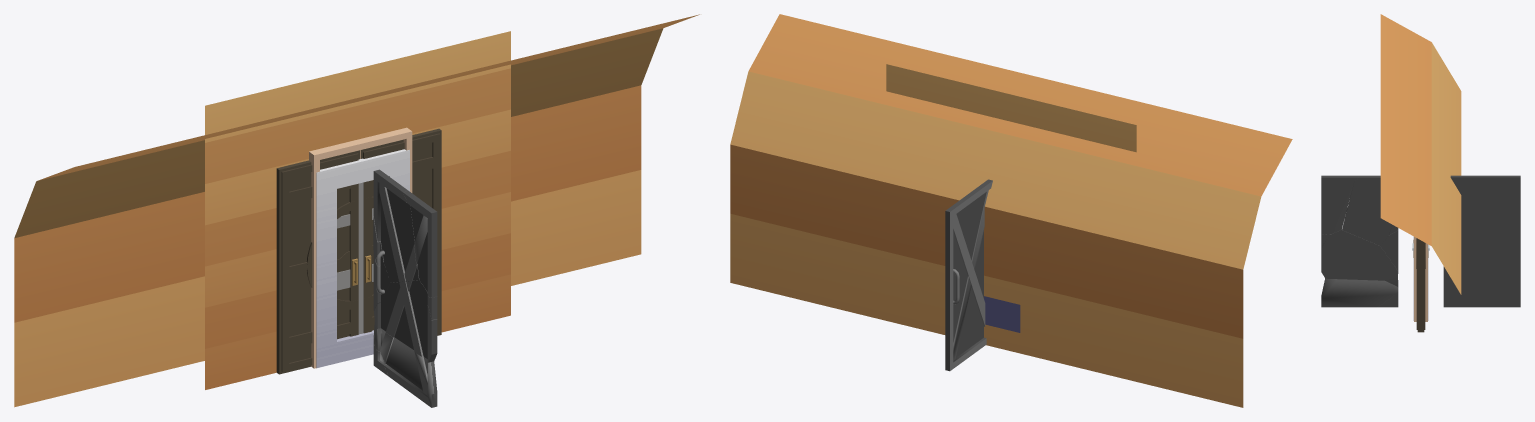
File: puertas.glb
The picture shows the model from 3 angles, left to right: view 1: azimuth 30°, elevation 25°; view 2: azimuth 150°, elevation 25°; view 3: azimuth 270°, elevation 25°; orthographic projection. The views are drawn at different scales.
Parts seen in each view (by area): view 1: door-wide-open, door-wide-closed, Door_DoubleLeft, door-white-glass, Door_DoubleRight, Door_placeholder.007_Scene.008, Door_placeholder.006_Scene.007, doorway(Clone), Door_placeholder.008_Scene.009, Door_placeholder.004_Scene.005, Door_1, Door_placeholder.005_Scene.006; view 2: door-wide-open, door-wide-closed, Door_placeholder_Scene.002; view 3: door-wide-open, Door_placeholder_Scene.002, Door_placeholder.006_Scene.007, Door_placeholder.007_Scene.008, Door_placeholder.008_Scene.009, Door_placeholder.004_Scene.005, Door_DoubleRight, doorway(Clone), Door_placeholder.005_Scene.006.
Boxes of the visible parts, x1,y1,x2,y2 form: door-wide-open: (14,14,699,407); door-wide-closed: (205,31,510,389); Door_DoubleLeft: (276,150,359,374); door-white-glass: (316,149,409,368); Door_DoubleRight: (360,128,441,335); Door_placeholder.007_Scene.008: (373,169,419,282); Door_placeholder.006_Scene.007: (373,280,437,362); doorway(Clone): (309,127,412,368); Door_placeholder.008_Scene.009: (373,328,437,407); Door_placeholder.004_Scene.005: (403,191,437,297); Door_1: (337,182,373,334); Door_placeholder.005_Scene.006: (373,251,390,310); door-wide-open: (730,14,1292,407); door-wide-closed: (886,64,1136,152); Door_placeholder_Scene.002: (945,179,992,371); door-wide-open: (1380,14,1461,294); Door_placeholder_Scene.002: (1443,175,1520,307); Door_placeholder.006_Scene.007: (1321,229,1398,287); Door_placeholder.007_Scene.008: (1342,175,1392,245); Door_placeholder.008_Scene.009: (1321,278,1398,307); Door_placeholder.004_Scene.005: (1321,175,1359,234); Door_DoubleRight: (1413,238,1428,332); doorway(Clone): (1414,237,1427,321); Door_placeholder.005_Scene.006: (1380,230,1398,270).
Size of the model in its own units: 7.38 by 3.2 by 3.05.
9 materials, 3 textured.
